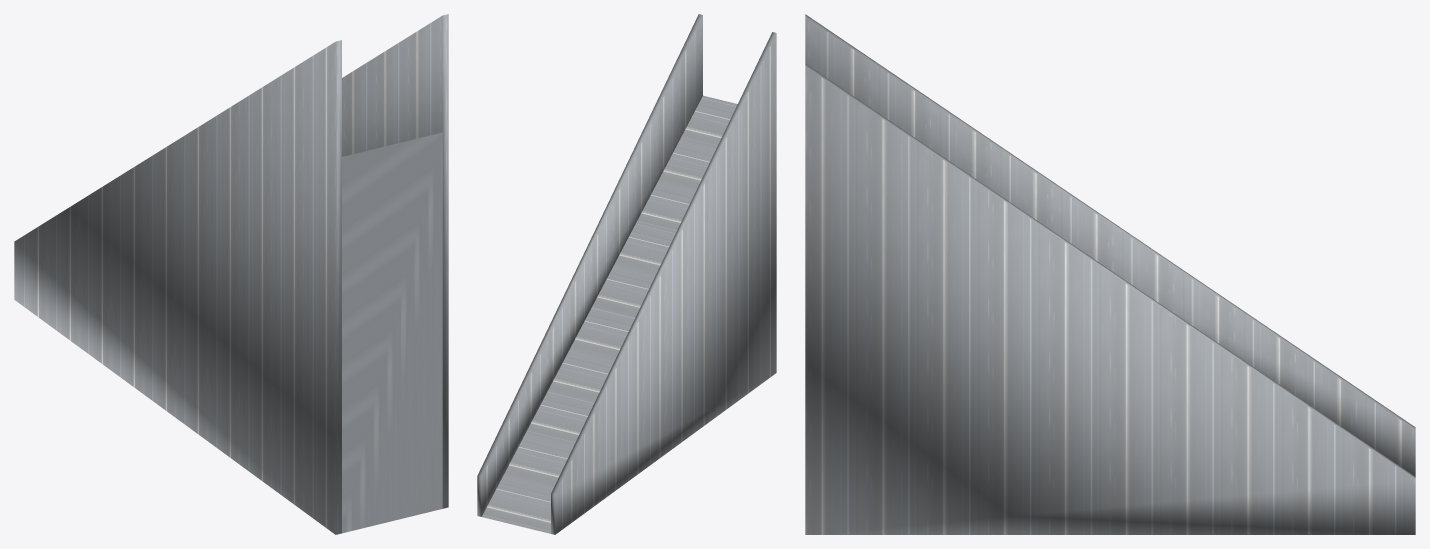
File: SM_Elevator.fbx
3 views of the same model, side by side, from view 1: azimuth 30°, elevation 25°; view 2: azimuth 150°, elevation 25°; view 3: azimuth 270°, elevation 25° (orthographic). The views are drawn at different scales.
Parts seen in each view (by area): view 1: elevator; view 2: elevator; view 3: elevator.
Boxes of the visible parts, box(x1,y1,x2,y2) form: elevator: box(14, 14, 448, 534); elevator: box(477, 14, 776, 534); elevator: box(805, 14, 1415, 534).
Size of the model in its own units: 204 by 1004 by 850.
1 material, 1 textured.
